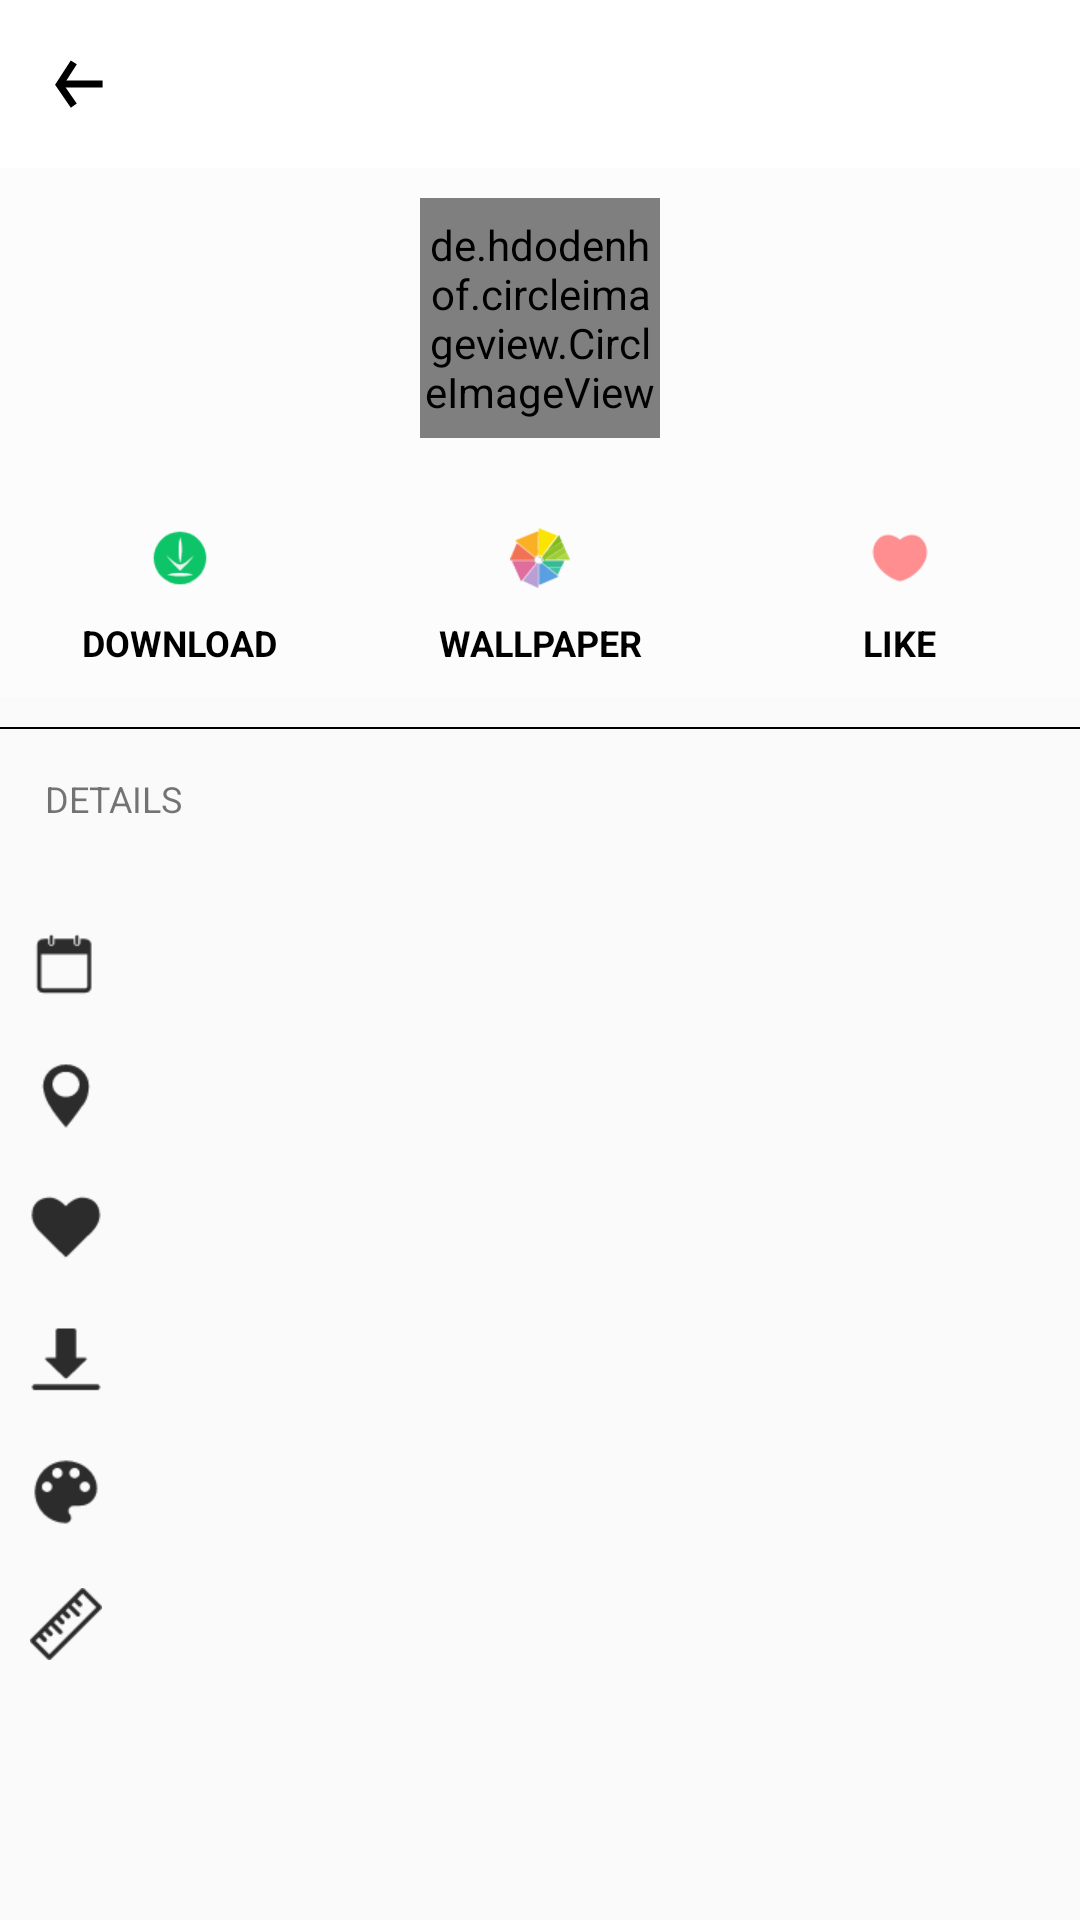

Point at icon controls on the screen. Image size 1080 x 1920, points as (x=x, y=y).
back: (x=79, y=84)
date: (x=64, y=964)
location: (x=66, y=1096)
size: (x=66, y=1624)
